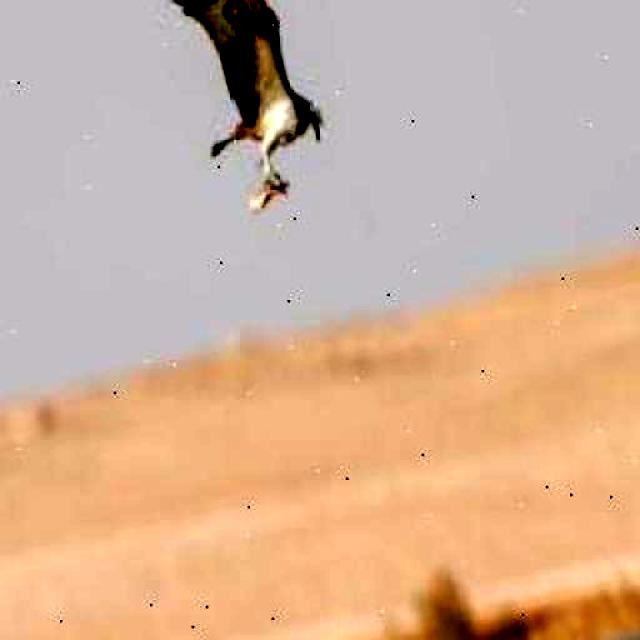airplane: (164, 0, 334, 202)
